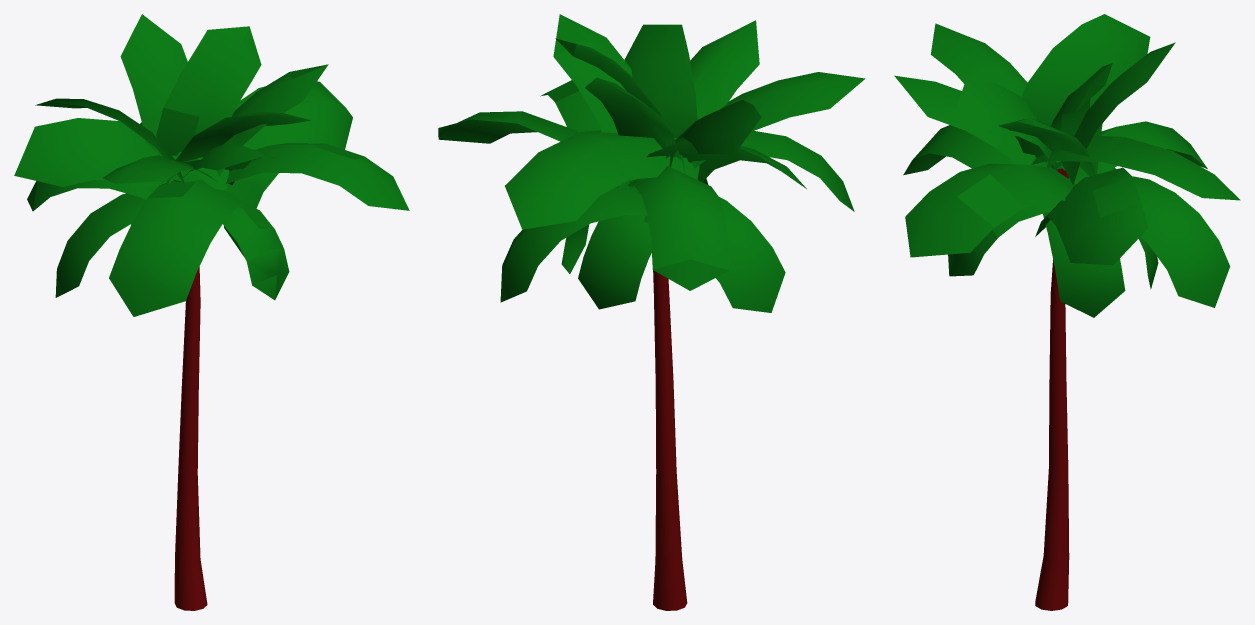
File: Palm-02.fbx
The picture shows the model from 3 angles, left to right: view 1: azimuth 30°, elevation 25°; view 2: azimuth 150°, elevation 25°; view 3: azimuth 270°, elevation 25°; orthographic projection. The views are drawn at different scales.
Parts seen in each view (by area): view 1: palm-02; view 2: palm-02; view 3: palm-02.
Boxes of the visible parts, left/top/right/bottom form: palm-02: left=14, top=14, right=409, bottom=610; palm-02: left=438, top=14, right=865, bottom=610; palm-02: left=894, top=14, right=1240, bottom=610.
Size of what is drawn, in the model's own units: 4.59 by 6.89 by 3.82.
